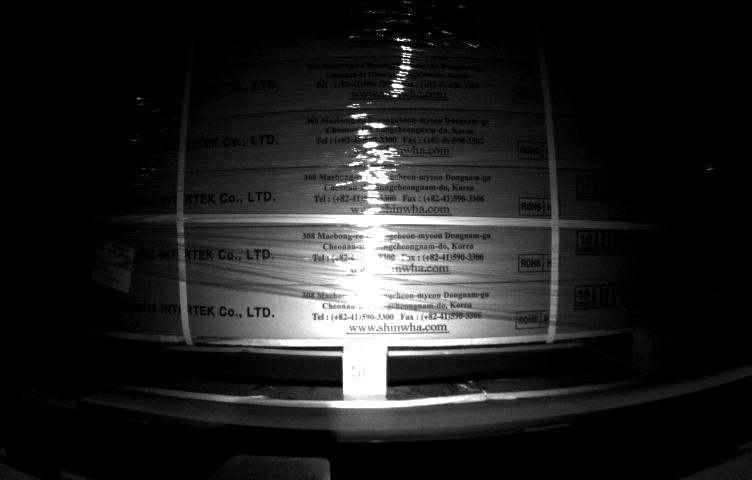True Barcode: (87, 238, 134, 289)
